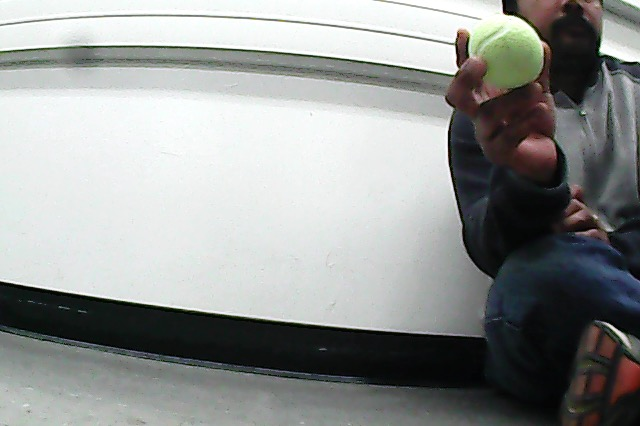ball: (467, 13, 547, 94)
